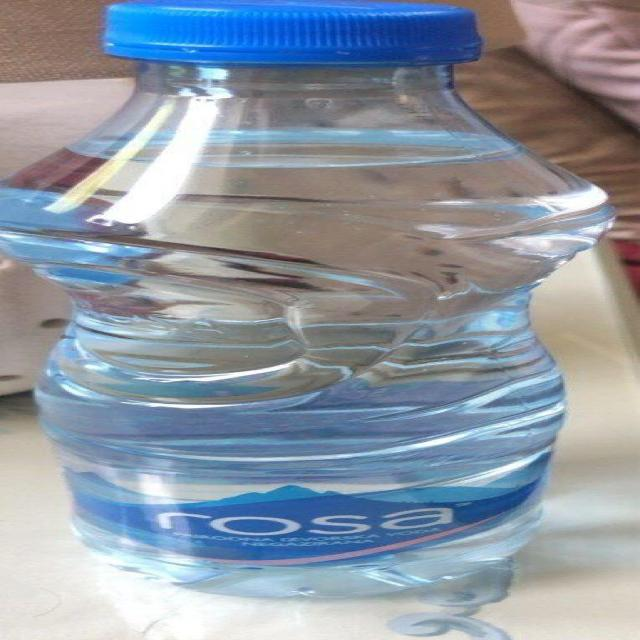bottle: (1, 2, 640, 621)
